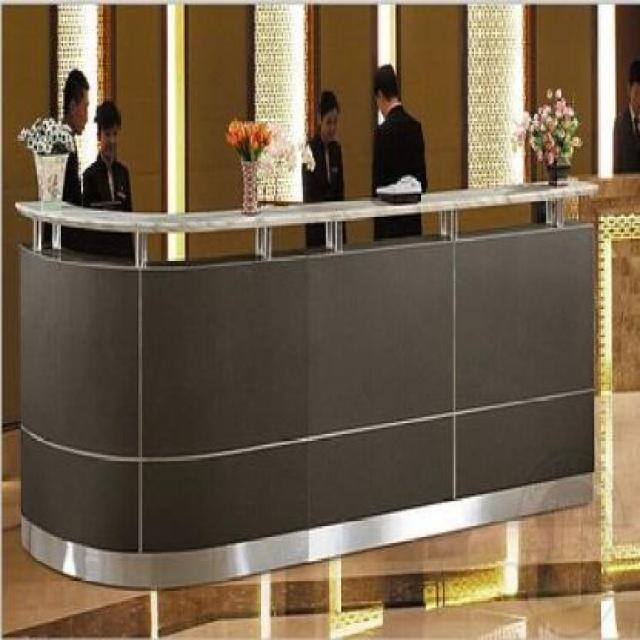frontdesk: (14, 164, 612, 596)
